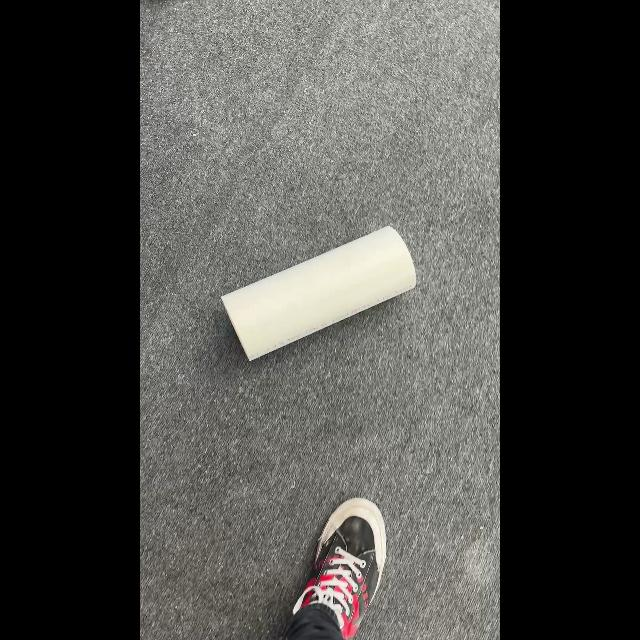CORAL: (220, 225, 416, 362)
